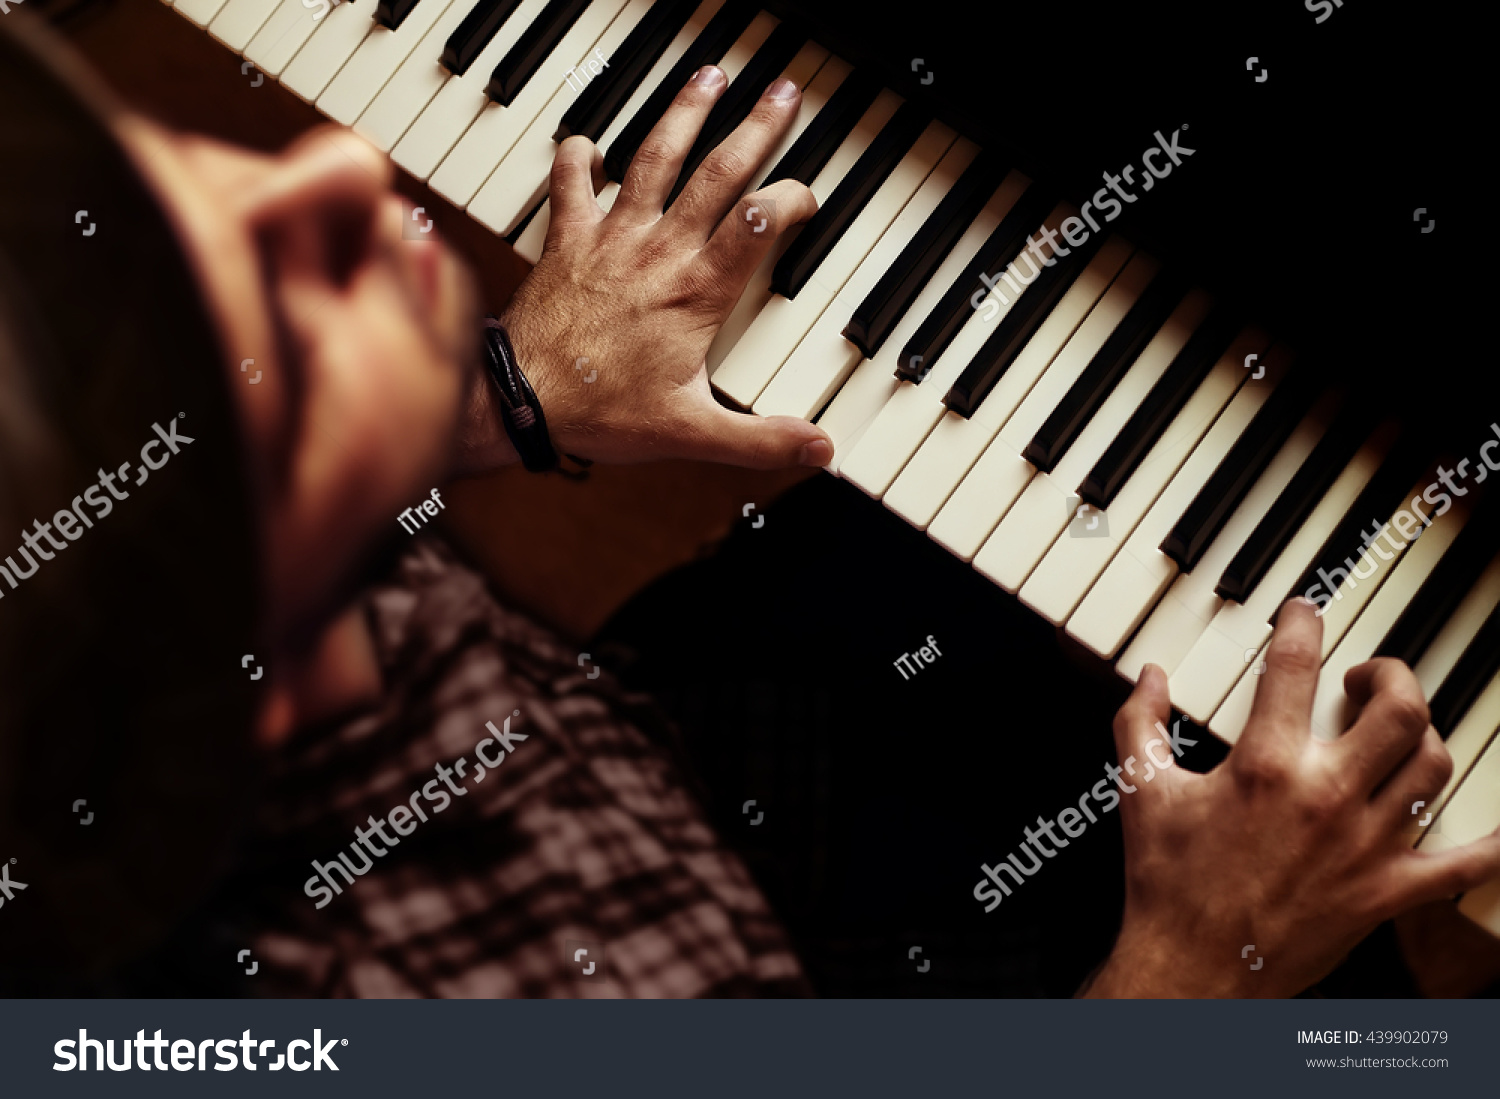Piano: (177, 1, 1483, 964)
